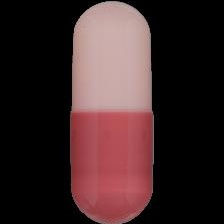63187-061: (0, 0, 224, 224)
